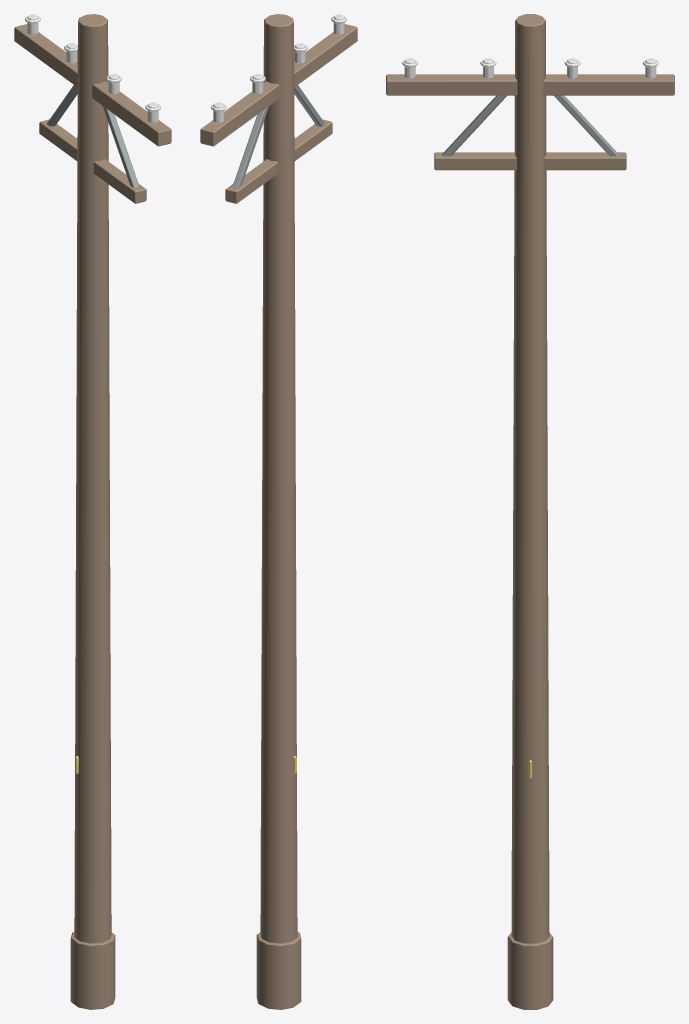
The model's file is power_pole.glb.
3 renders of one model, left to right at view 1: azimuth 30°, elevation 25°; view 2: azimuth 150°, elevation 25°; view 3: azimuth 270°, elevation 25°, orthographic.
Parts seen in each view (by area): view 1: pole; view 2: pole; view 3: pole.
Part boxes in pixels (bbox=[...]): pole: bbox=[14, 14, 171, 1009]; pole: bbox=[200, 14, 357, 1009]; pole: bbox=[386, 14, 674, 1009].
Size of the model in its own units: 0.3614 by 9 by 2.4.
